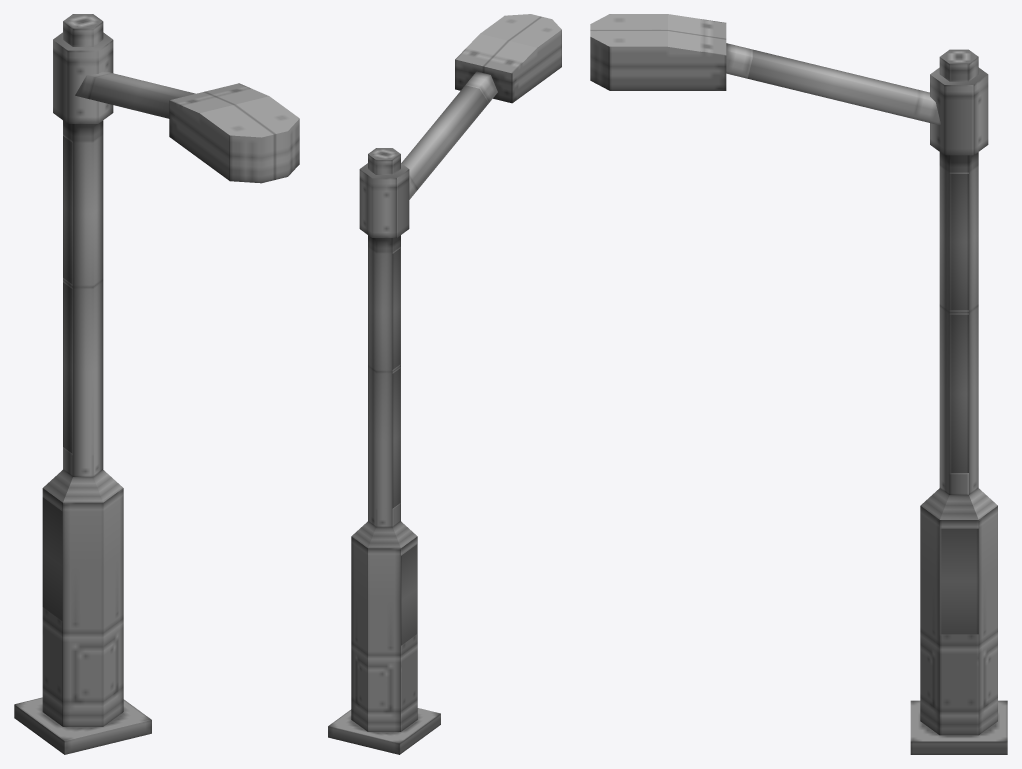
Rendered from StreetLight.fbx.
The picture shows the model from 3 angles, left to right: view 1: azimuth 30°, elevation 25°; view 2: azimuth 150°, elevation 25°; view 3: azimuth 270°, elevation 25°; orthographic projection. The views are drawn at different scales.
Parts seen in each view (by area): view 1: StreetLight; view 2: StreetLight; view 3: StreetLight.
Part boxes in pixels (box(x1,y1,x2,y2)): StreetLight: box(14, 14, 299, 754); StreetLight: box(328, 14, 561, 754); StreetLight: box(590, 14, 1007, 754).
Bounding box in the file's own units: 5 × 40 × 21.5.
